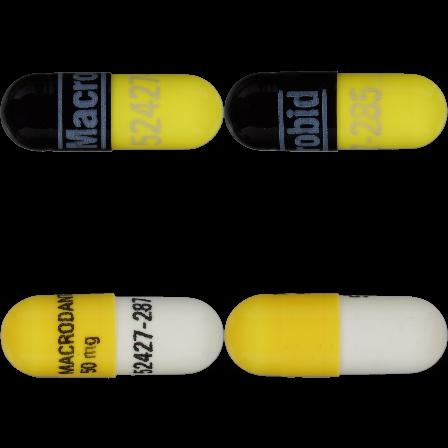47781-303: (0, 0, 224, 224)
